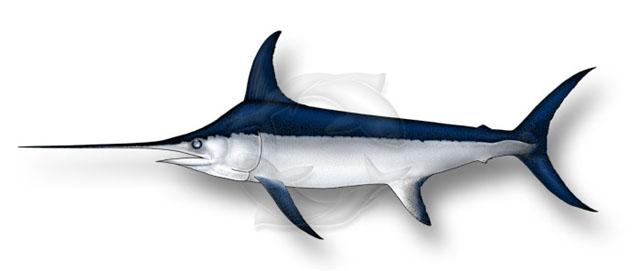Mulut: (10, 109, 236, 194)
Sirip Anal: (470, 118, 502, 172)
Sirip Dada: (248, 170, 332, 248)
Sirip Ekor: (516, 61, 608, 217)
Sirip Perut: (371, 168, 444, 228)
Sirip Punggung: (242, 27, 300, 113)
